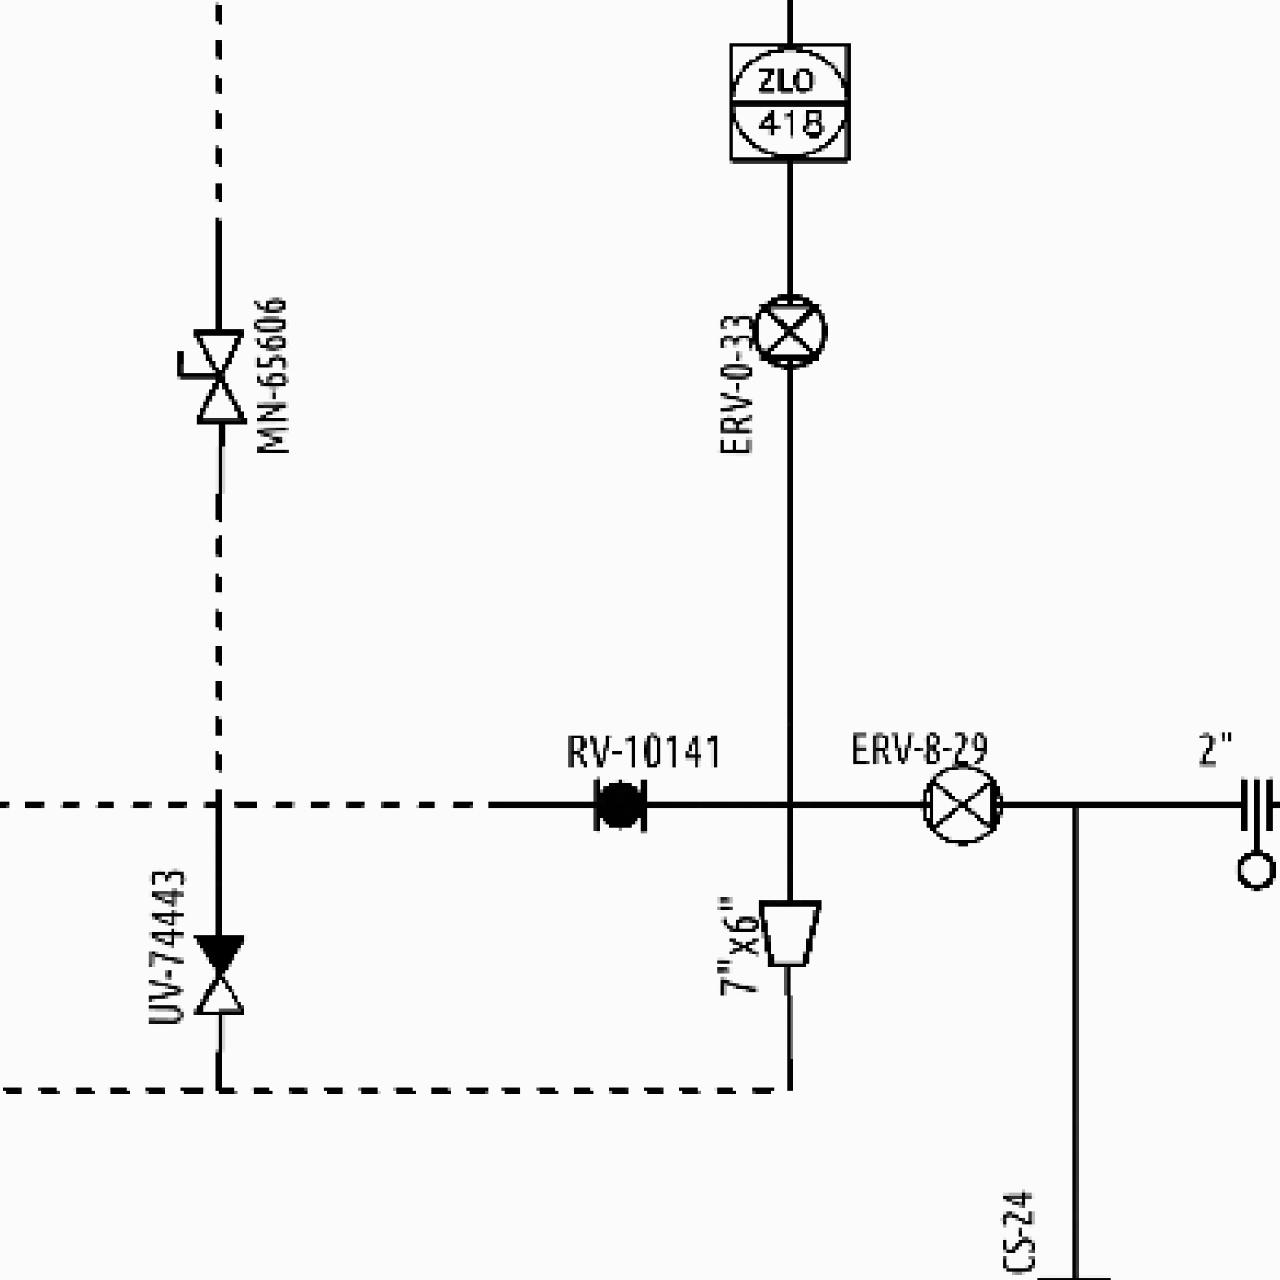Half closed valve: (188, 930, 248, 1017)
